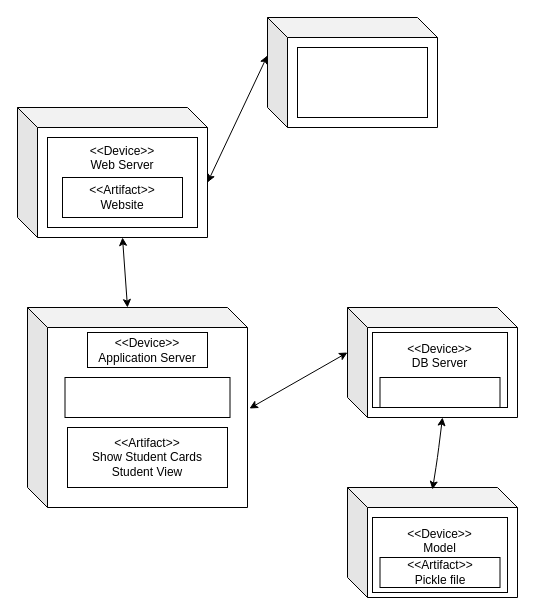
Image size: 535x615. Some labels were removed from this diagram. The shapes that lost their labels are listed below. From the top down, each one's centre as x and y in pixels, then its label:
[362,82]: <<devices>> Cellphones Personal Computers
[147,397]: <<Artifact>> Student Predictions Input
[439,392]: <<Artifact>> Django SQL
